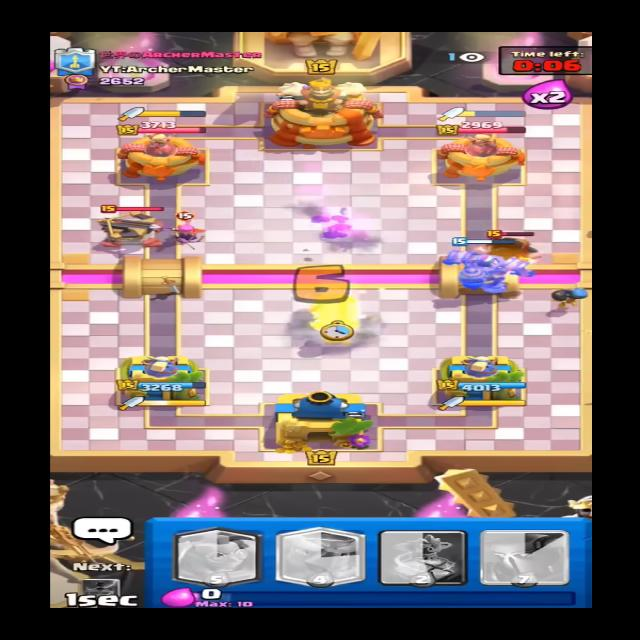Evoarchers: (169, 212, 214, 245)
Knight: (484, 229, 544, 262)
Xbow: (90, 200, 178, 253)
